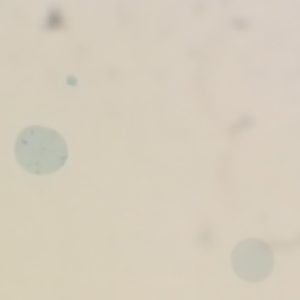erythrocyte: (229, 236, 277, 284)
punctate reticulocyte: (11, 123, 70, 177)
